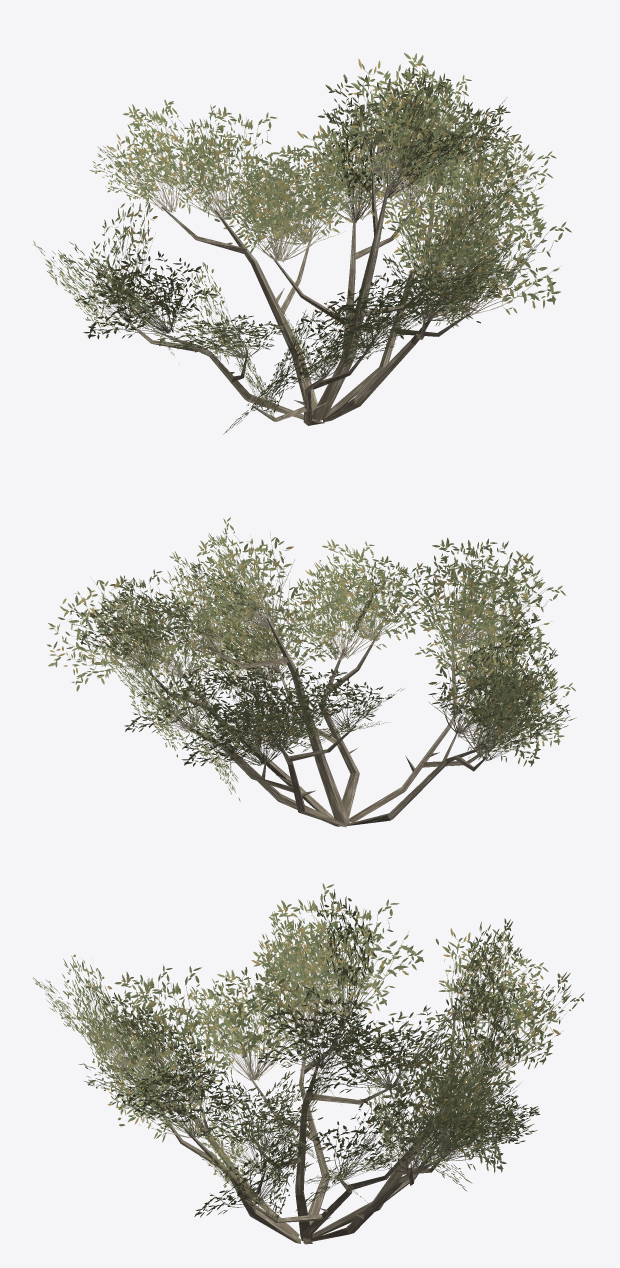
File: dry-shrub-1.glb
3 views of the same model, one above another, from view 1: azimuth 30°, elevation 25°; view 2: azimuth 150°, elevation 25°; view 3: azimuth 270°, elevation 25° (orthographic). The views are drawn at different scales.
Parts seen in each view (by area): view 1: dry-shrub-1; view 2: dry-shrub-1; view 3: dry-shrub-1.
Part boxes in pixels (box(x1,y1,x2,y2)): dry-shrub-1: box(33, 53, 571, 434); dry-shrub-1: box(47, 517, 576, 827); dry-shrub-1: box(32, 883, 584, 1244).
Size of the model in its own units: 1.87 by 1.05 by 1.68.
Materials: 2 (2 with a texture image).
